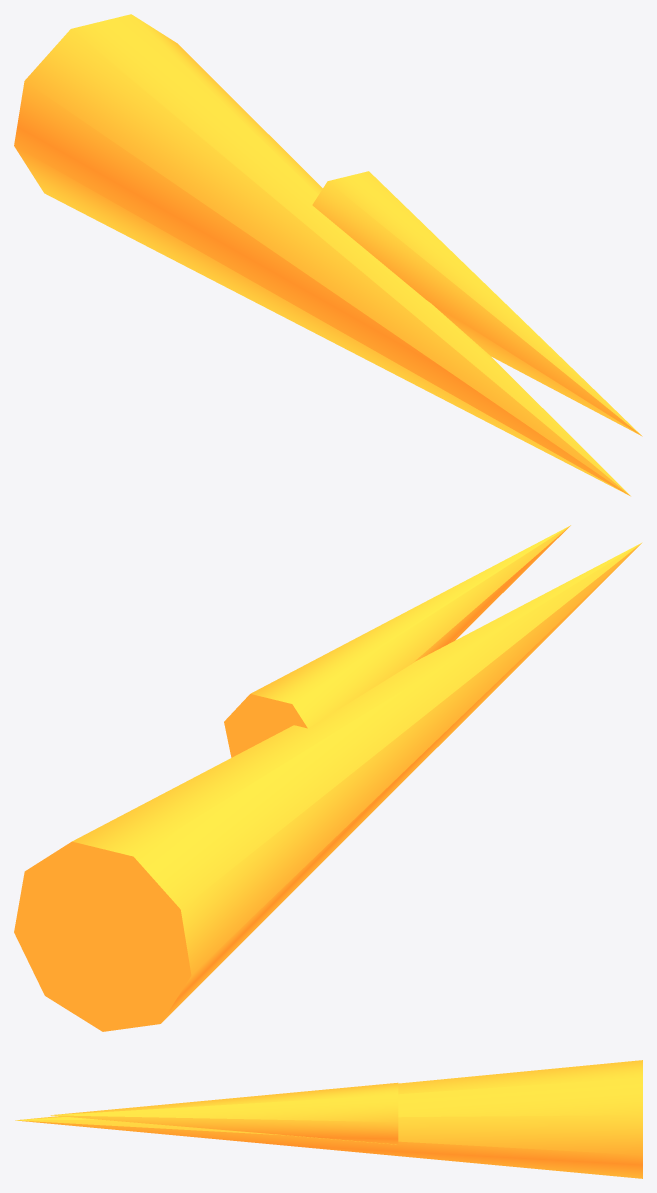
The model's file is fire-pillar.glb.
3 renders of one model, top to bottom at view 1: azimuth 30°, elevation 25°; view 2: azimuth 150°, elevation 25°; view 3: azimuth 270°, elevation 25°, orthographic. The views are drawn at different scales.
Parts seen in each view (by area): view 1: Outer; view 2: Outer; view 3: Outer.
Part boxes in pixels (x1,y1,x2,y2): Outer: (14, 14, 642, 496); Outer: (14, 525, 642, 1031); Outer: (15, 1060, 642, 1178).
Bounding box in the file's own units: 0.5125 × 0.5043 × 2.7.
